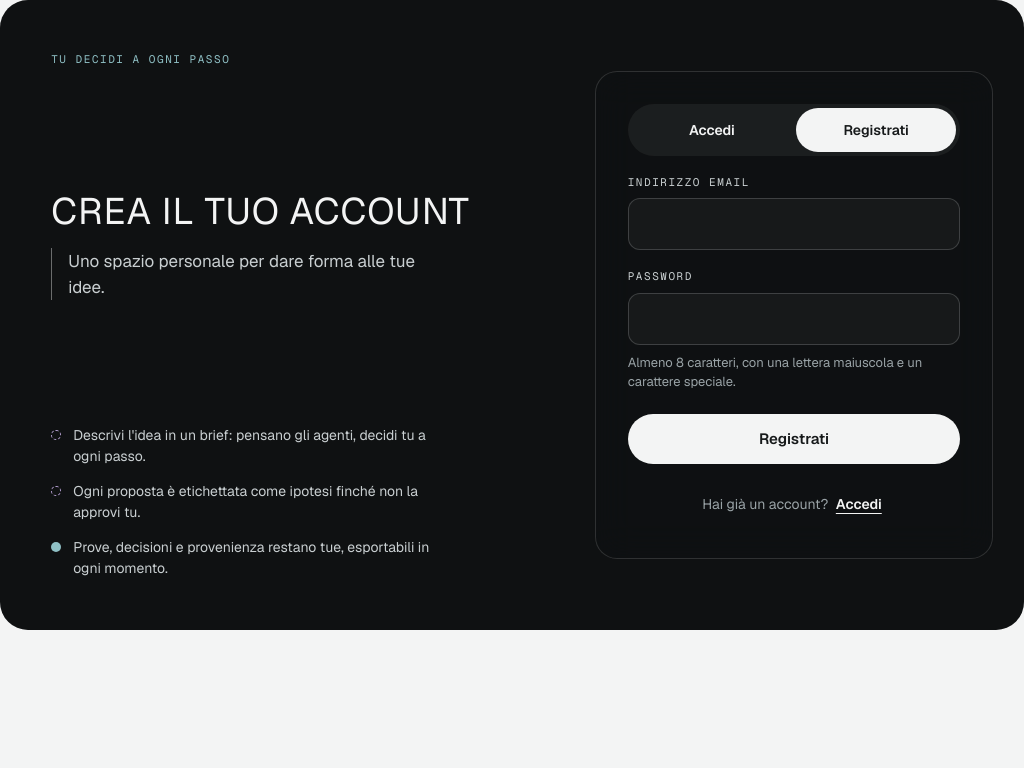
Test: registration page › stays on the page and explains a refused registration
Type "owner@example.com" into the field with id "authentication-email". click: (794,224)
box: [628,198,960,250]
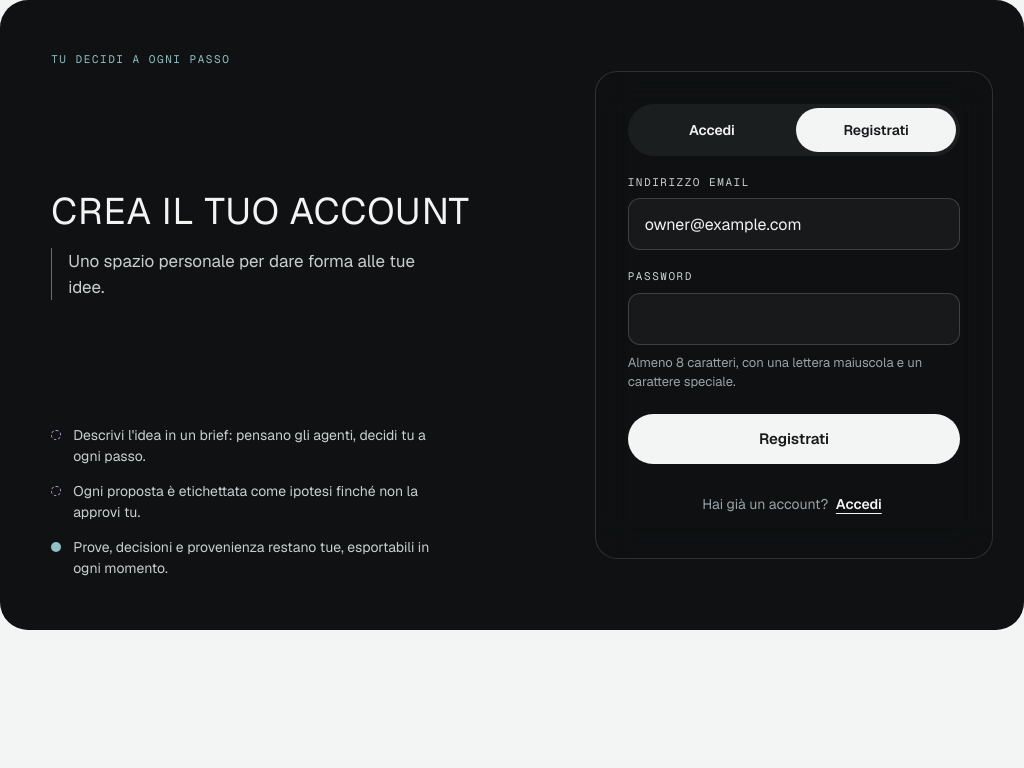
Type "Test-password-not-real!" into the password field with id "authentication-password". click: (794,319)
box: [628,293,960,345]
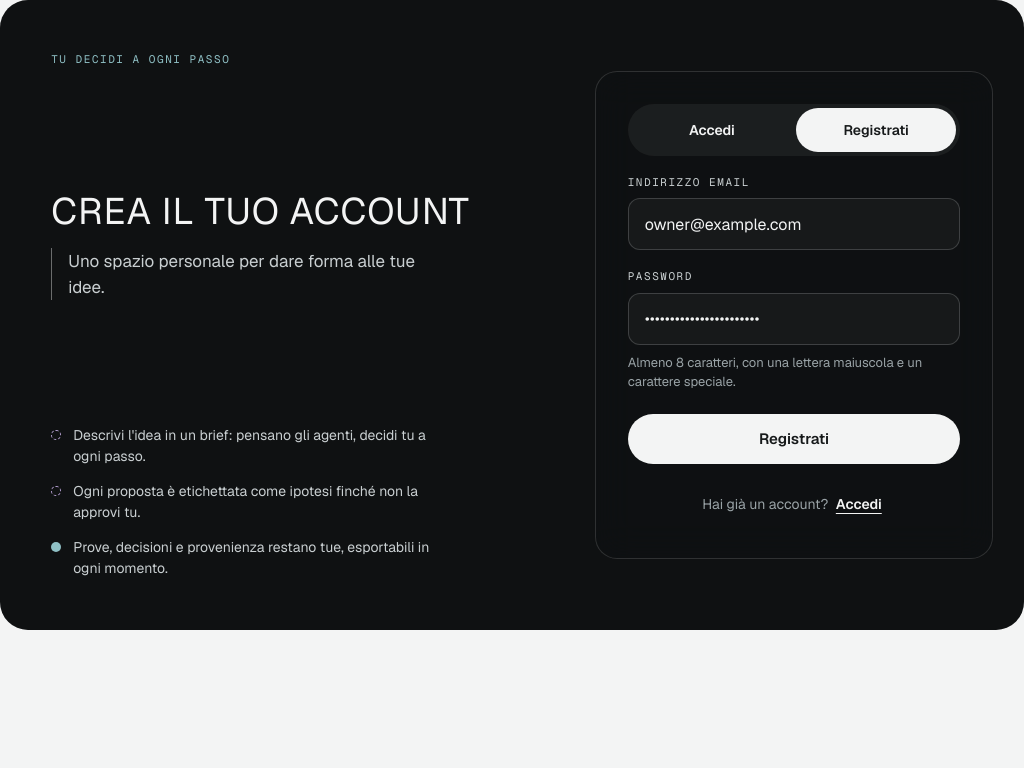
Submit the form, box [628,174,960,464]
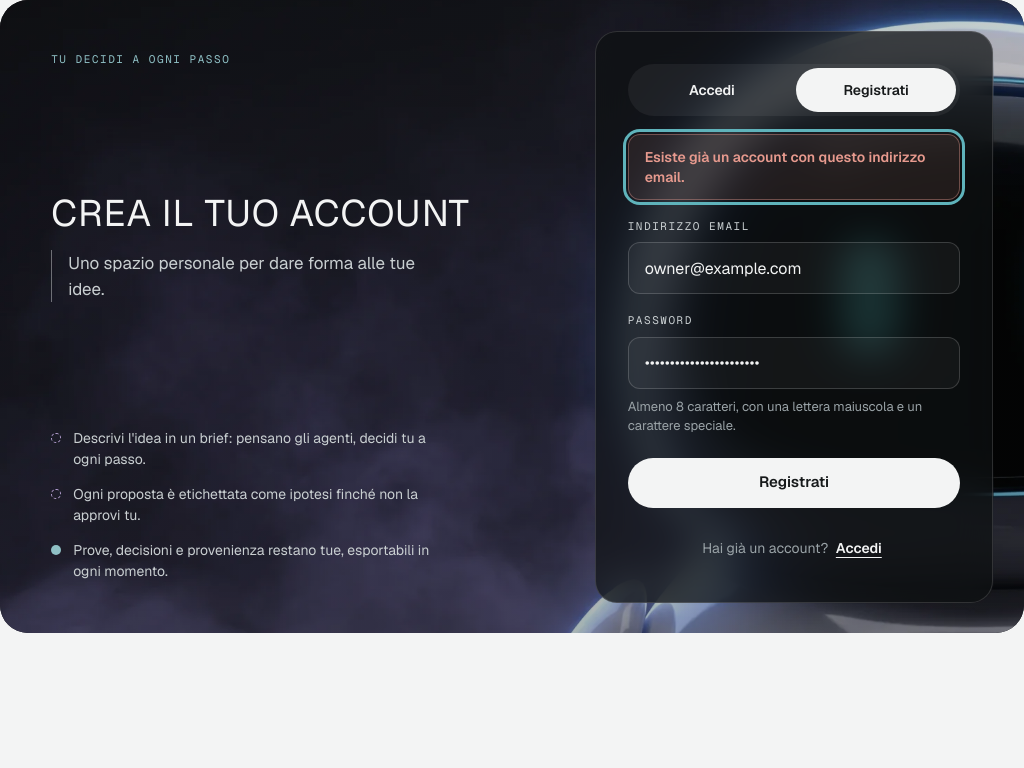
Check: the message "Esiste già un account con questo indirizzo email." is shown, box [628,134,960,200]
